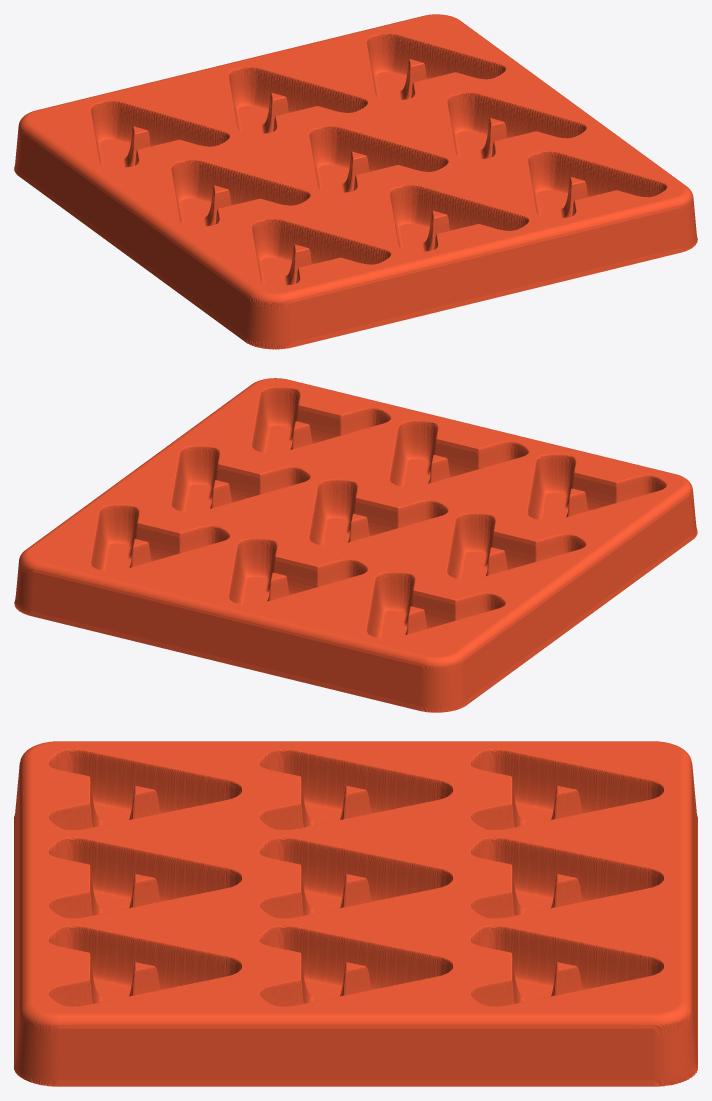
The model's file is mold.glb.
3 renders of one model, top to bottom at view 1: azimuth 30°, elevation 25°; view 2: azimuth 150°, elevation 25°; view 3: azimuth 270°, elevation 25°, orthographic. The views are drawn at different scales.
Visible parts, largest first — view 1: geometry_0; view 2: geometry_0; view 3: geometry_0.
Part boxes in pixels (x1,y1,x2,y2): geometry_0: (14, 14, 697, 349); geometry_0: (14, 378, 697, 712); geometry_0: (14, 741, 697, 1086).
Bounding box in the file's own units: 0.1351 × 0.0145 × 0.1365.
